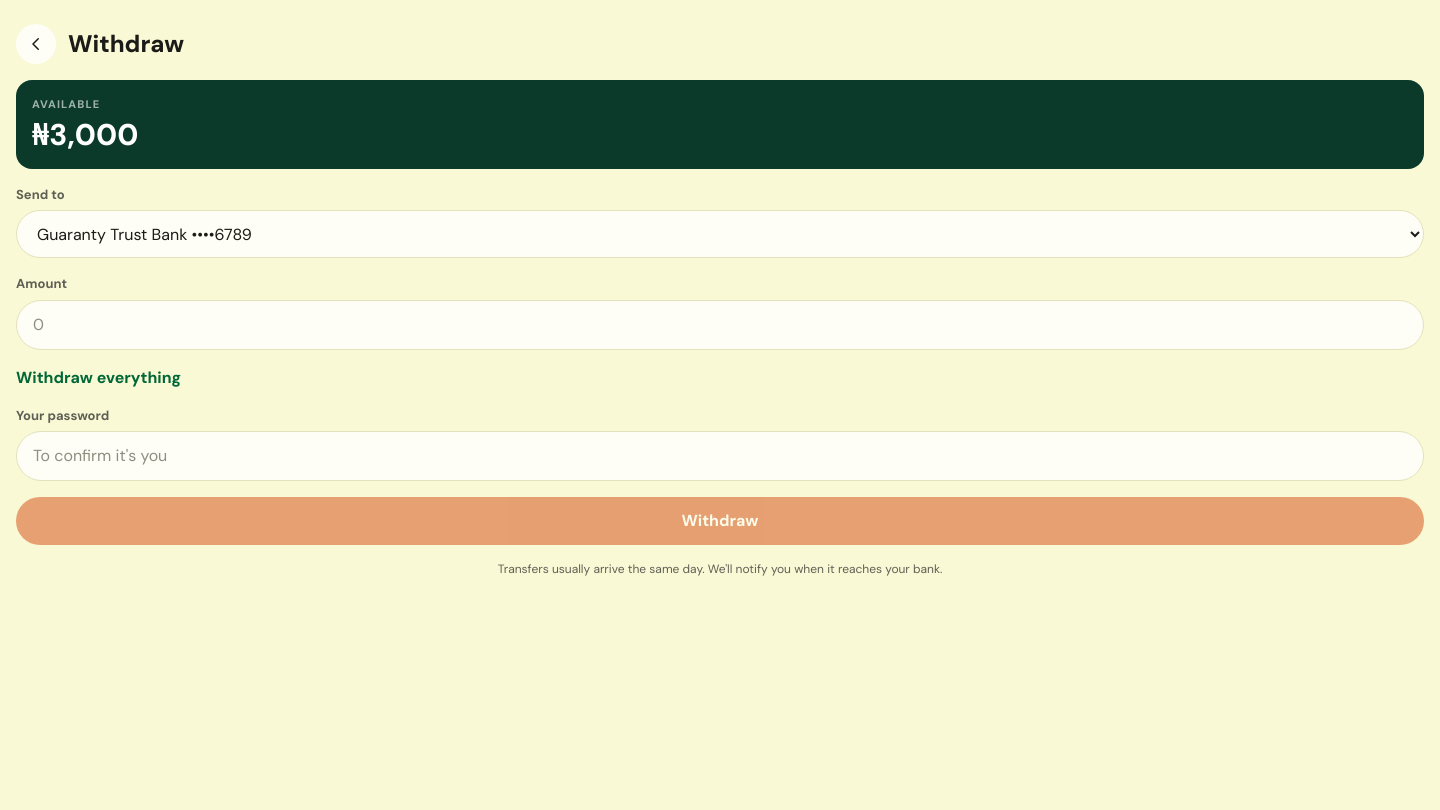
Test case: Withdraw › refuses more than the balance, and says how much there is
Type "4800" into the field labelled "Amount" at (720,324), box [33, 300, 1407, 348]
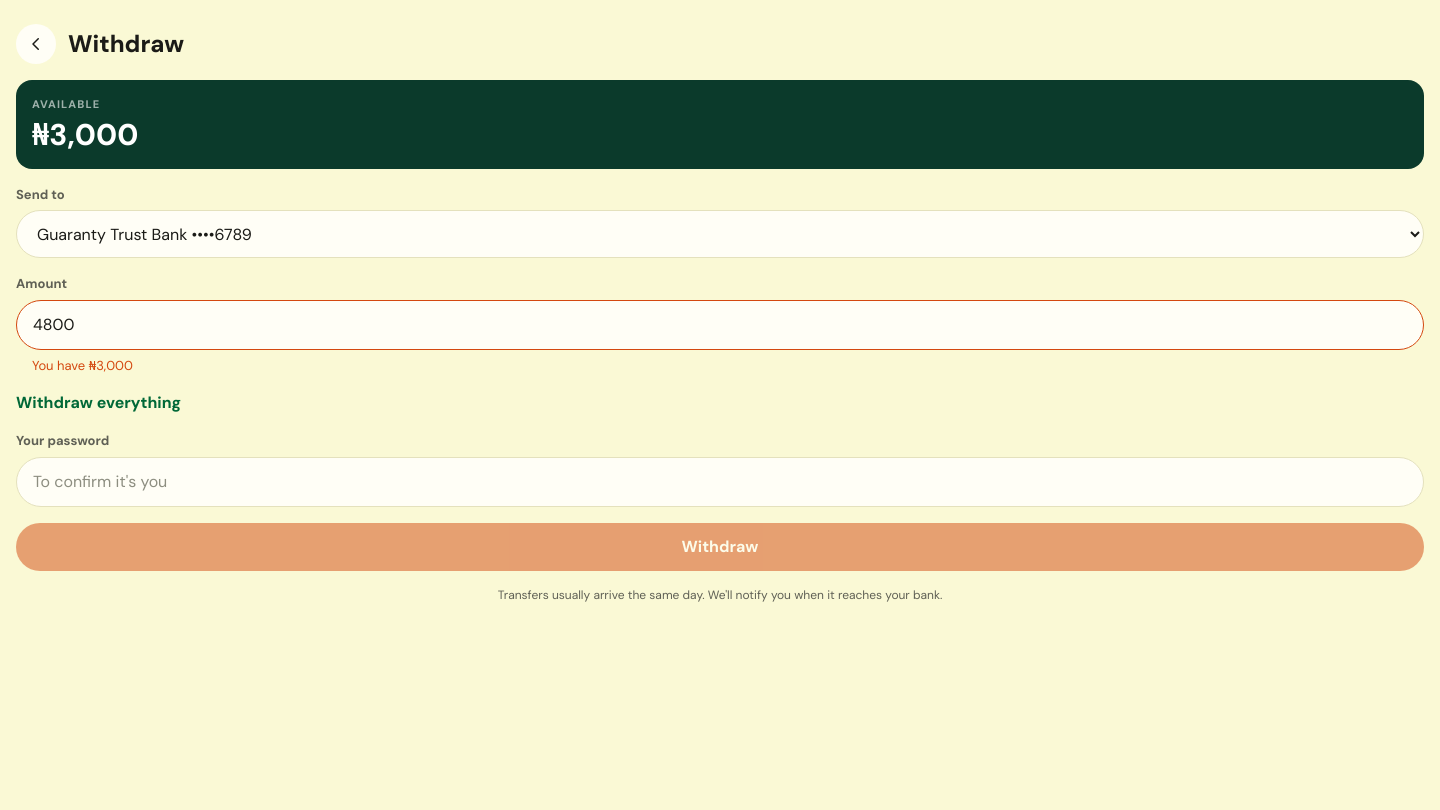
expect the button "Withdraw" is disabled: met, box [16, 522, 1424, 570]
expect the text "You have ₦3,000" is shown: met, box [32, 356, 133, 374]
